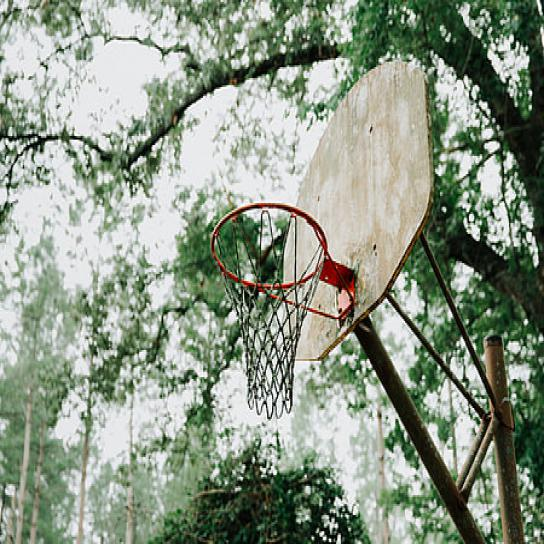basketball-hoop: (208, 198, 326, 422)
